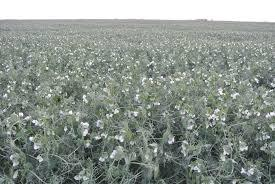field: (0, 20, 274, 183)
